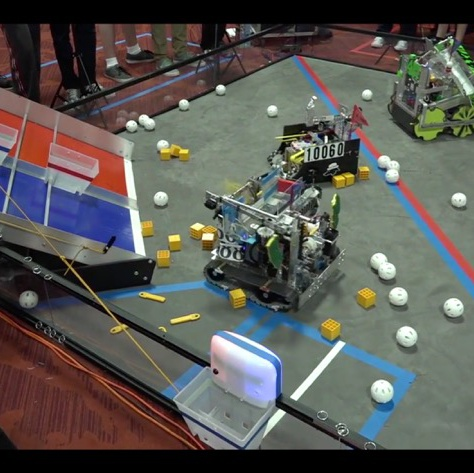robot: (205, 176, 344, 313), (387, 35, 474, 142), (265, 104, 368, 185)
